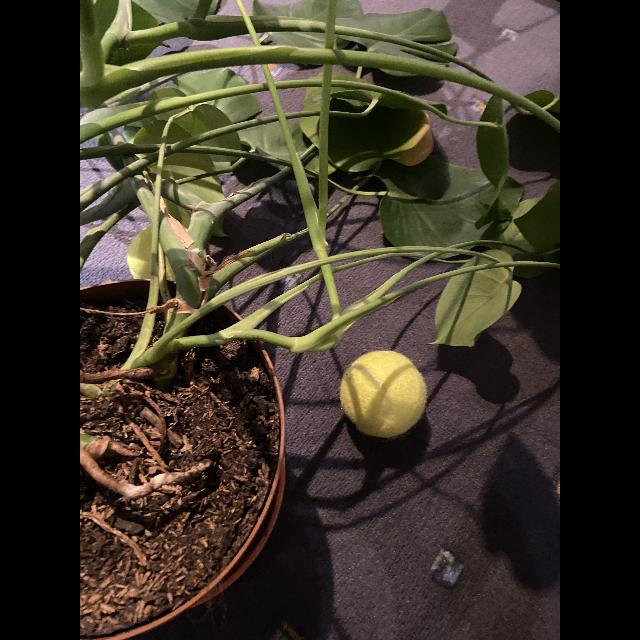Tennisball: (340, 351, 426, 439), (127, 227, 151, 279), (249, 330, 309, 344)
